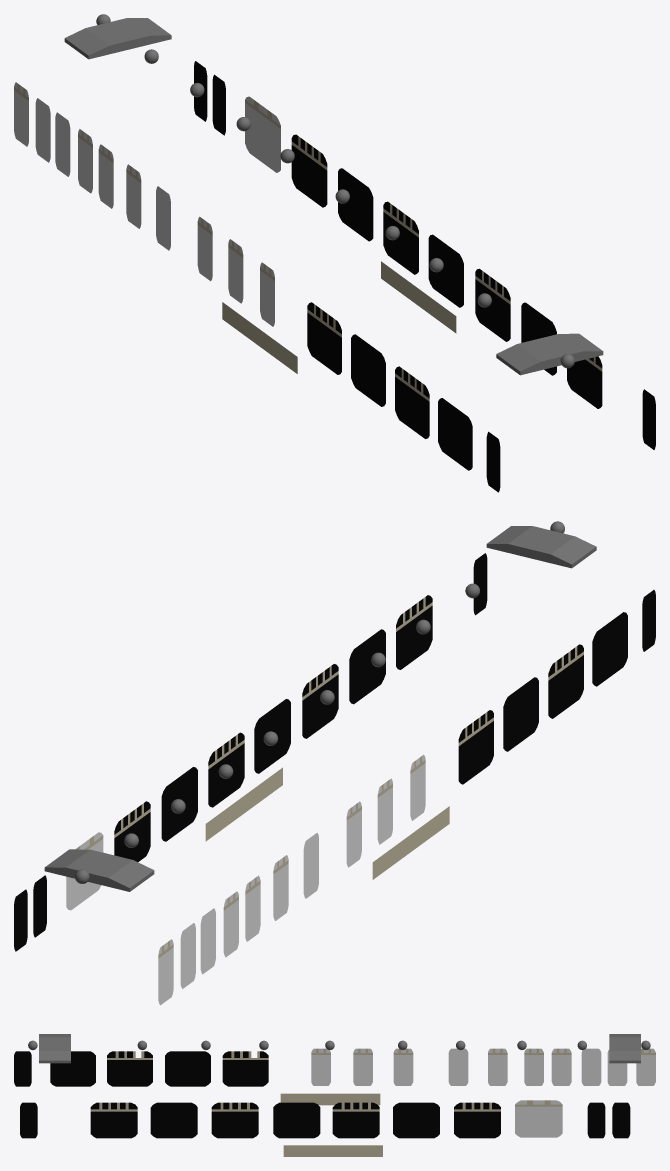
File: gwr-sunshine-buffet-windows.dae
3 renders of one model, top to bottom at view 1: azimuth 30°, elevation 25°; view 2: azimuth 150°, elevation 25°; view 3: azimuth 270°, elevation 25°, orthographic. The views are drawn at different scales.
Parts seen in each view (by area): view 1: Cube_017, Cube_016, Plane_264, Plane_266, Plane_289, Plane_290, Plane_291, Plane_263, Plane_273, Plane_278, Plane_275, Plane_274 (+17 smaller); view 2: Cube_016, Cube_017, Plane_291, Plane_263, Plane_289, Plane_290, Plane_273, Plane_278, Plane_274, Plane_277, Plane_276, Plane_275 (+18 smaller); view 3: Plane_264, Plane_274, Plane_276, Plane_277, Plane_278, Plane_275, Plane_266, Plane_273, Plane_289, Plane_263, Plane_290, Plane_291 (+18 smaller).
Boxes of the visible parts, left/top/right/bottom form: Cube_017: left=64, top=18, right=171, bottom=59; Cube_016: left=496, top=333, right=603, bottom=375; Plane_264: left=245, top=96, right=280, bottom=172; Plane_266: left=291, top=134, right=327, bottom=207; Plane_289: left=351, top=334, right=385, bottom=406; Plane_290: left=395, top=366, right=429, bottom=438; Plane_291: left=438, top=398, right=472, bottom=470; Plane_263: left=307, top=302, right=341, bottom=374; Plane_273: left=338, top=168, right=373, bottom=241; Plane_278: left=475, top=268, right=510, bottom=341; Plane_275: left=428, top=234, right=463, bottom=307; Plane_274: left=383, top=201, right=418, bottom=274; Cube_016: left=486, top=526, right=596, bottom=568; Cube_017: left=44, top=849, right=154, bottom=891; Plane_291: left=592, top=612, right=627, bottom=686; Plane_263: left=458, top=710, right=493, bottom=784; Plane_289: left=503, top=677, right=538, bottom=751; Plane_290: left=548, top=644, right=583, bottom=718; Plane_273: left=161, top=767, right=197, bottom=841; Plane_278: left=302, top=664, right=338, bottom=738; Plane_274: left=208, top=732, right=244, bottom=807; Plane_277: left=349, top=629, right=385, bottom=704; Plane_276: left=396, top=595, right=432, bottom=669; Plane_275: left=254, top=699, right=290, bottom=773; Plane_264: left=515, top=1100, right=562, bottom=1137; Plane_274: left=332, top=1102, right=379, bottom=1138; Plane_276: left=90, top=1102, right=137, bottom=1138; Plane_277: left=150, top=1102, right=197, bottom=1138; Plane_278: left=211, top=1102, right=258, bottom=1138; Plane_275: left=273, top=1102, right=320, bottom=1138; Plane_266: left=454, top=1102, right=500, bottom=1138; Plane_273: left=393, top=1102, right=439, bottom=1138; Plane_289: left=165, top=1051, right=210, bottom=1086; Plane_263: left=222, top=1051, right=268, bottom=1086; Plane_290: left=107, top=1051, right=152, bottom=1086; Plane_291: left=50, top=1051, right=95, bottom=1086.
Bounding box in the file's own units: 1.93 × 10.12 × 1.58.
